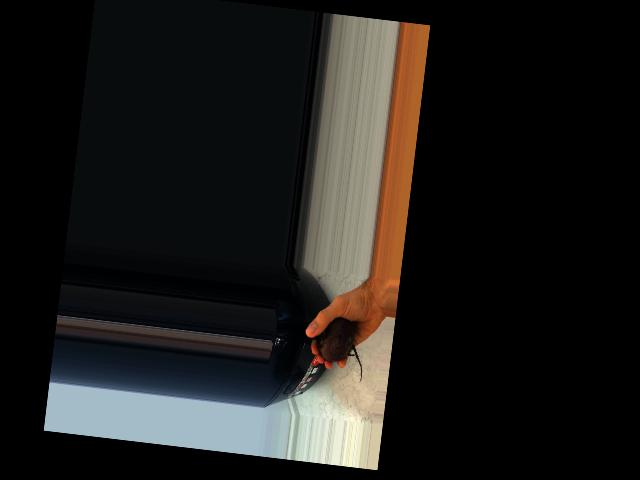beet: (308, 315, 368, 383)
